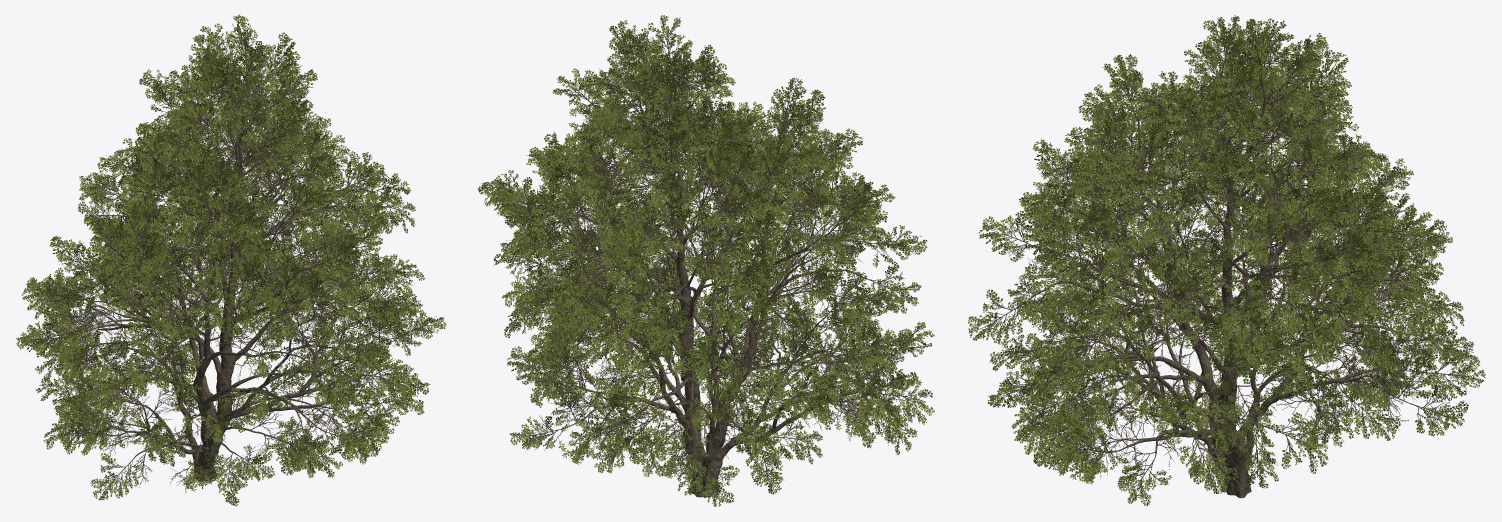
Rendered from SM_BlackAlder_Field_02_PP_LOD1.gltf.
3 renders of one model, left to right at view 1: azimuth 30°, elevation 25°; view 2: azimuth 150°, elevation 25°; view 3: azimuth 270°, elevation 25°, orthographic. The views are drawn at different scales.
Parts seen in each view (by area): view 1: SM_BlackAlder_Field_02_PP; view 2: SM_BlackAlder_Field_02_PP; view 3: SM_BlackAlder_Field_02_PP.
Boxes of the visible parts, x1,y1,x2,y2 form: SM_BlackAlder_Field_02_PP: [16, 15, 446, 506]; SM_BlackAlder_Field_02_PP: [477, 15, 934, 506]; SM_BlackAlder_Field_02_PP: [968, 15, 1485, 505].
Size of the model in its own units: 16.37 by 17.2 by 16.26.
Materials: 3 (3 with a texture image).
